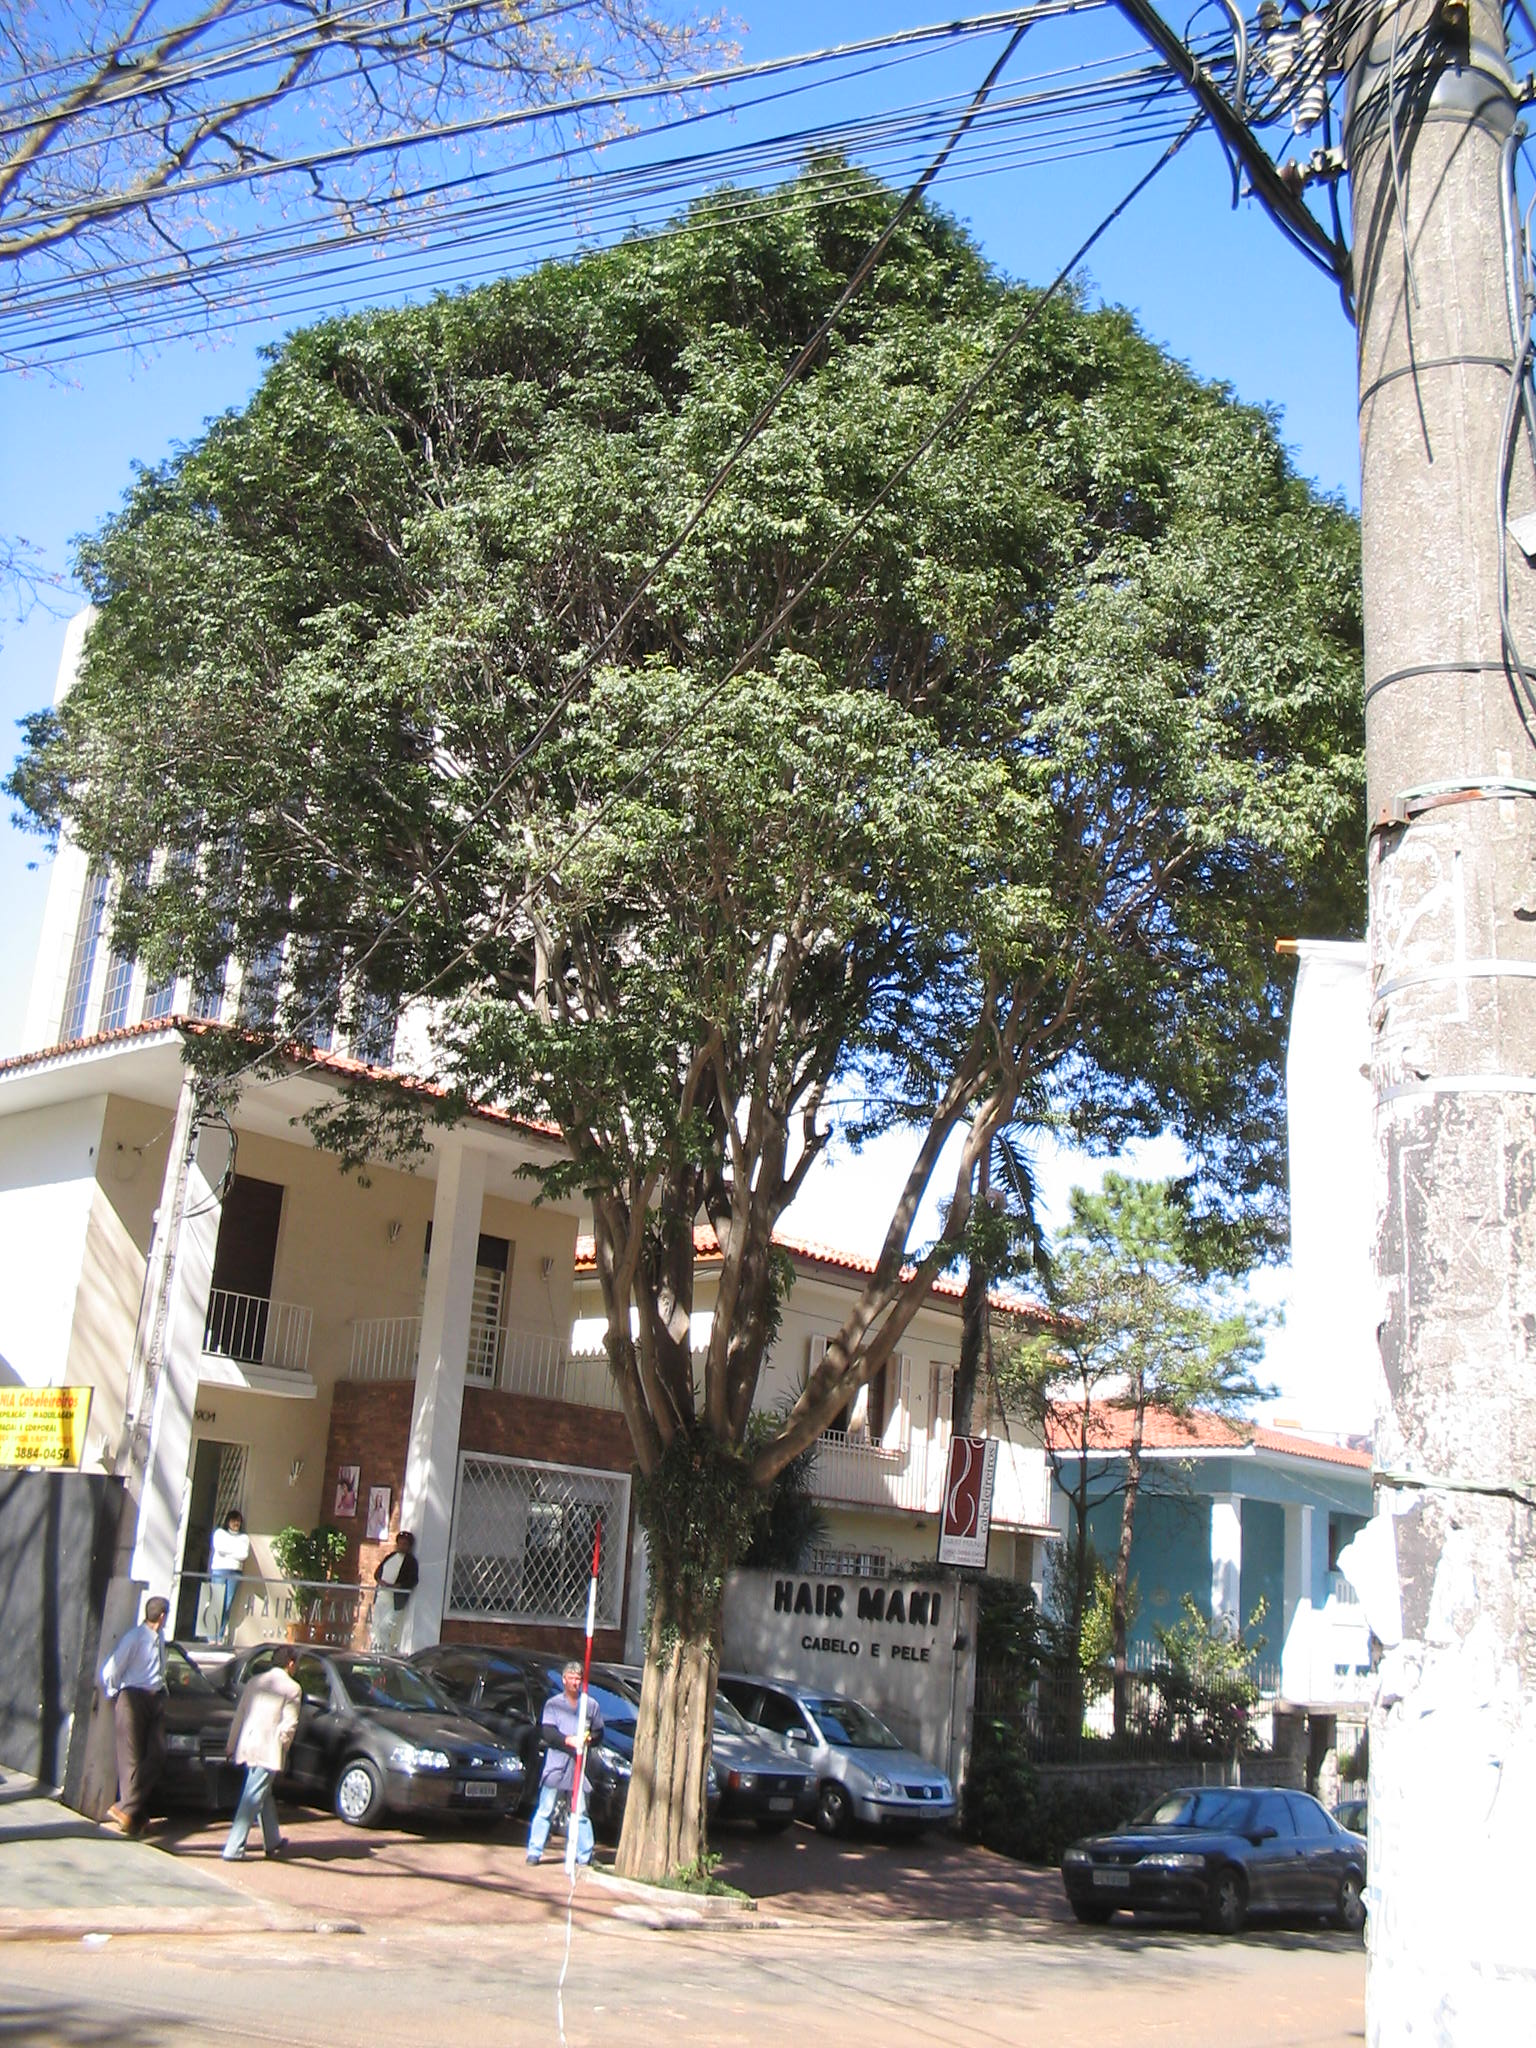crown: (19, 158, 1354, 1232)
stem: (608, 1482, 771, 1887)
stick: (552, 1517, 616, 1875)
tree: (11, 153, 1362, 1884)
